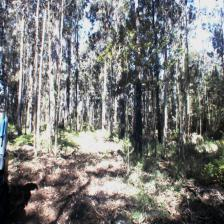trunktrack_idkeyframe: (134, 97, 144, 142), (16, 86, 22, 136)
